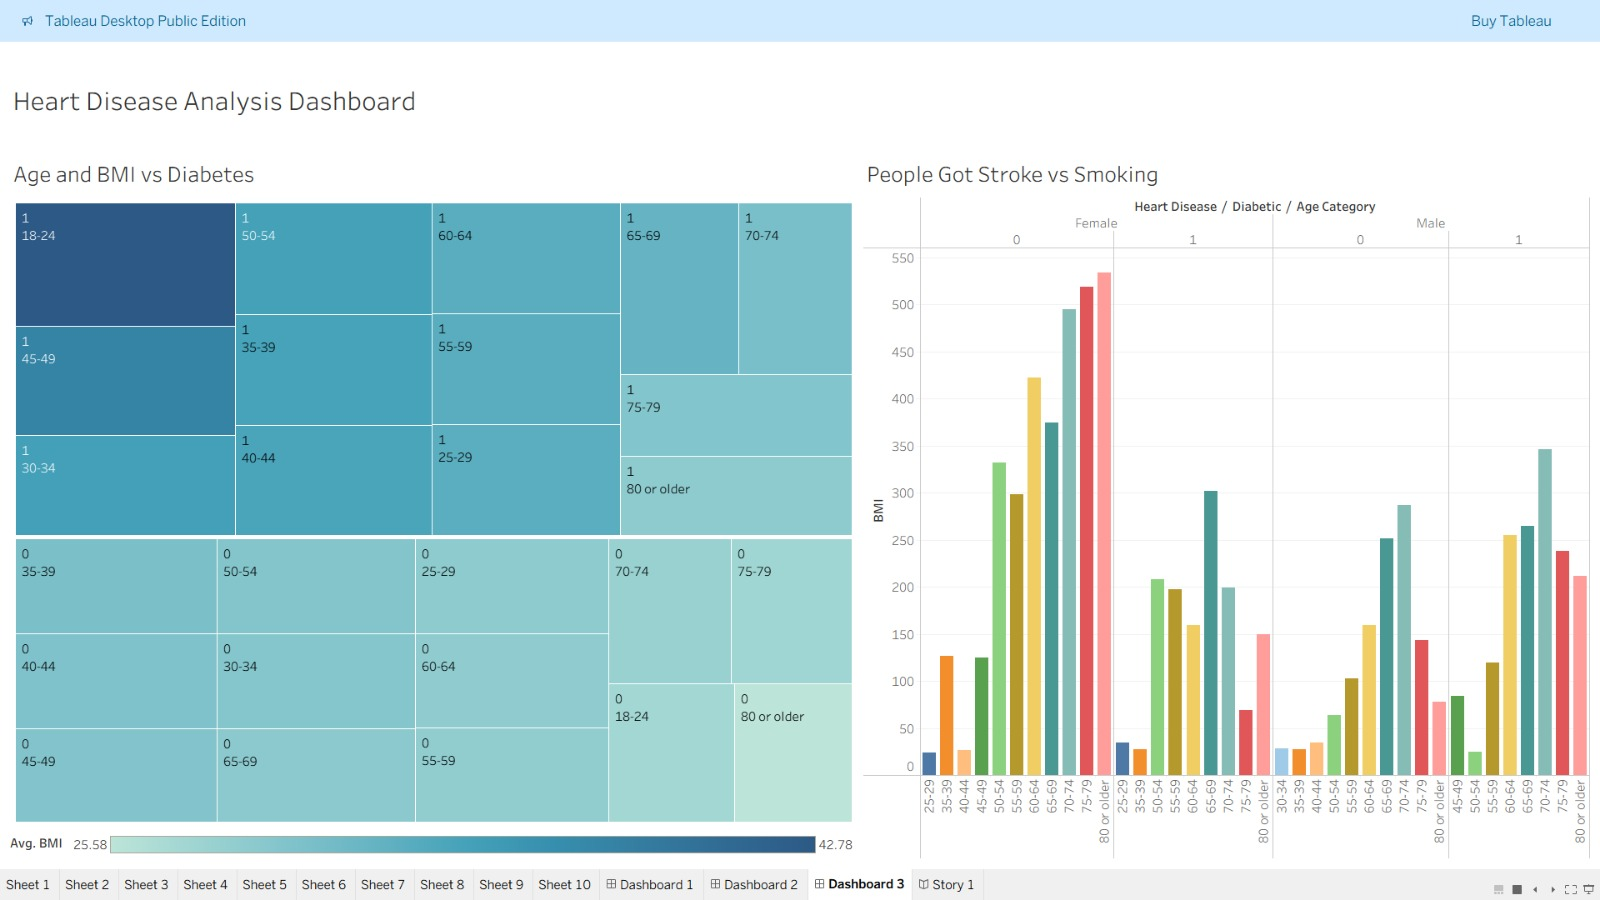

Layout of this report page (visuals, bound fields, positions):
{"tool":"tableau","page":{"name":"Dashboard 3","canvas":[1000,1000],"units":"permille","ordinal":2},"visuals":[{"type":"title","box":[4.8,10,990.3,125]},{"type":"worksheet","title":"Sheet 9","mark":"Automatic","box":[4.8,135,532.5,815.1]},{"type":"worksheet","title":"Sheet 10","mark":"Automatic","rows":["BMI"],"cols":["HeartDisease","Diabetic","AgeCategory"],"box":[537.4,135,457.8,855]},{"type":"legend","title":"Sheet 9","param":"[federated.16wzaki1bai31r1ebjb7l0oag64c].[avg:BMI:qk]","box":[4.8,950.1,532.5,40]}]}

Visuals, with their boxes on the dashboard's canvas, which has no fixed pixel size, in thousandths of its width and height (x1, y1, x2, y2). These are canvas units, not pixel positions in the 1600x900 screenshot, which may show the page scaled, cropped or inside an application window:
title: 5, 10, 995, 135
"Sheet 9" worksheet: 5, 135, 537, 950
"Sheet 10" worksheet: 537, 135, 995, 990
"Sheet 9" legend: 5, 950, 537, 990
